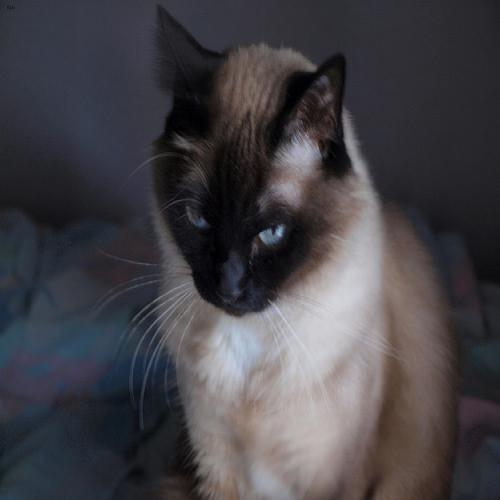siamese: (135, 4, 362, 328)
